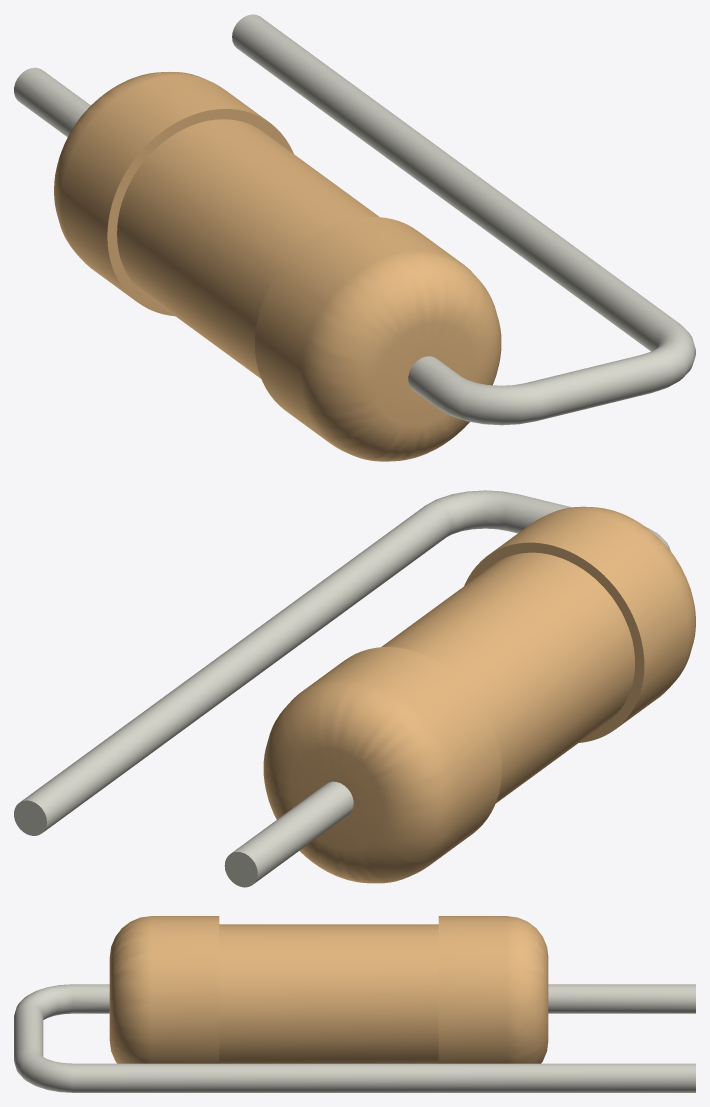
The model's file is r-axial-din0414-l11.9-d4.5-p5.08-v.glb.
3 renders of one model, top to bottom at view 1: azimuth 30°, elevation 25°; view 2: azimuth 150°, elevation 25°; view 3: azimuth 270°, elevation 25°, orthographic. The views are drawn at different scales.
Parts seen in each view (by area): view 1: RES-THT-01, PIN-01; view 2: RES-THT-01, PIN-01; view 3: RES-THT-01, PIN-01.
Part boxes in pixels (x1,y1,x2,y2): RES-THT-01: [54, 72, 501, 461]; PIN-01: [14, 14, 695, 425]; RES-THT-01: [263, 506, 695, 883]; PIN-01: [14, 490, 670, 887]; RES-THT-01: [109, 916, 548, 1063]; PIN-01: [14, 984, 695, 1092].
Bounding box in the file's own units: 7.73 × 4.5 × 18.5.
